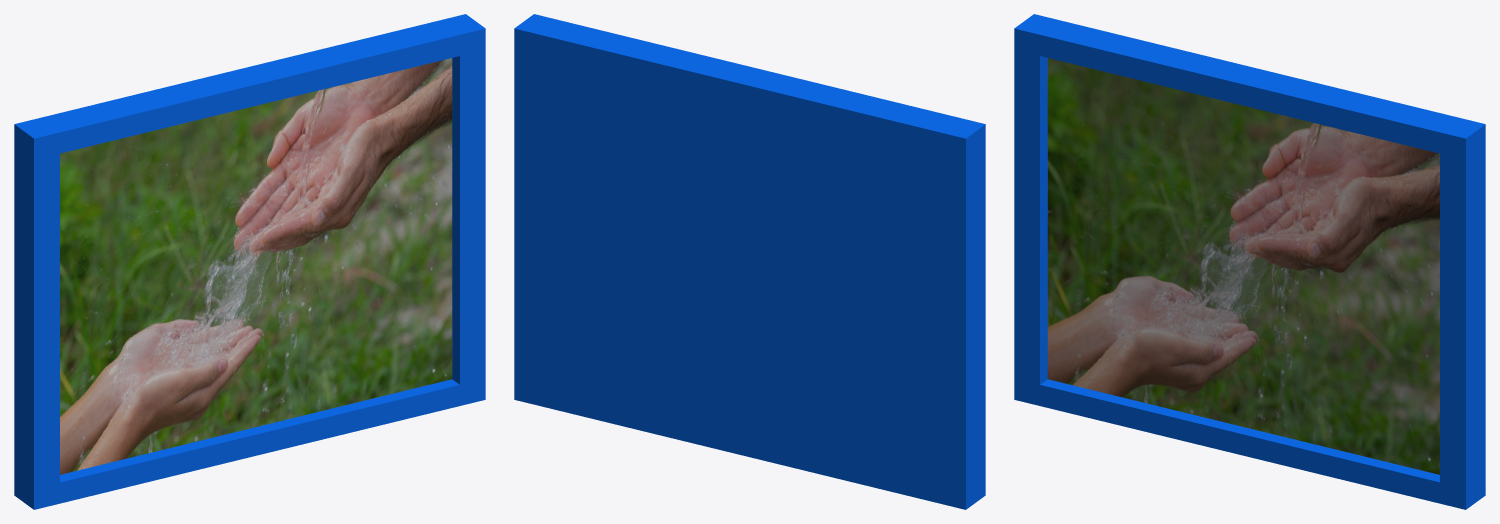
3 views of the same model, side by side, from view 1: azimuth 30°, elevation 25°; view 2: azimuth 150°, elevation 25°; view 3: azimuth 330°, elevation 25° (orthographic).
Visible parts, largest first — view 1: Cube.016; view 2: Cube.016; view 3: Cube.016.
Boxes of the visible parts, bbox=[...] form: Cube.016: bbox=[14, 14, 485, 509]; Cube.016: bbox=[514, 14, 985, 509]; Cube.016: bbox=[1014, 14, 1485, 509].
Size of the model in its own units: 0.4494 by 0.353 by 0.0342.
2 materials, 2 textured.
